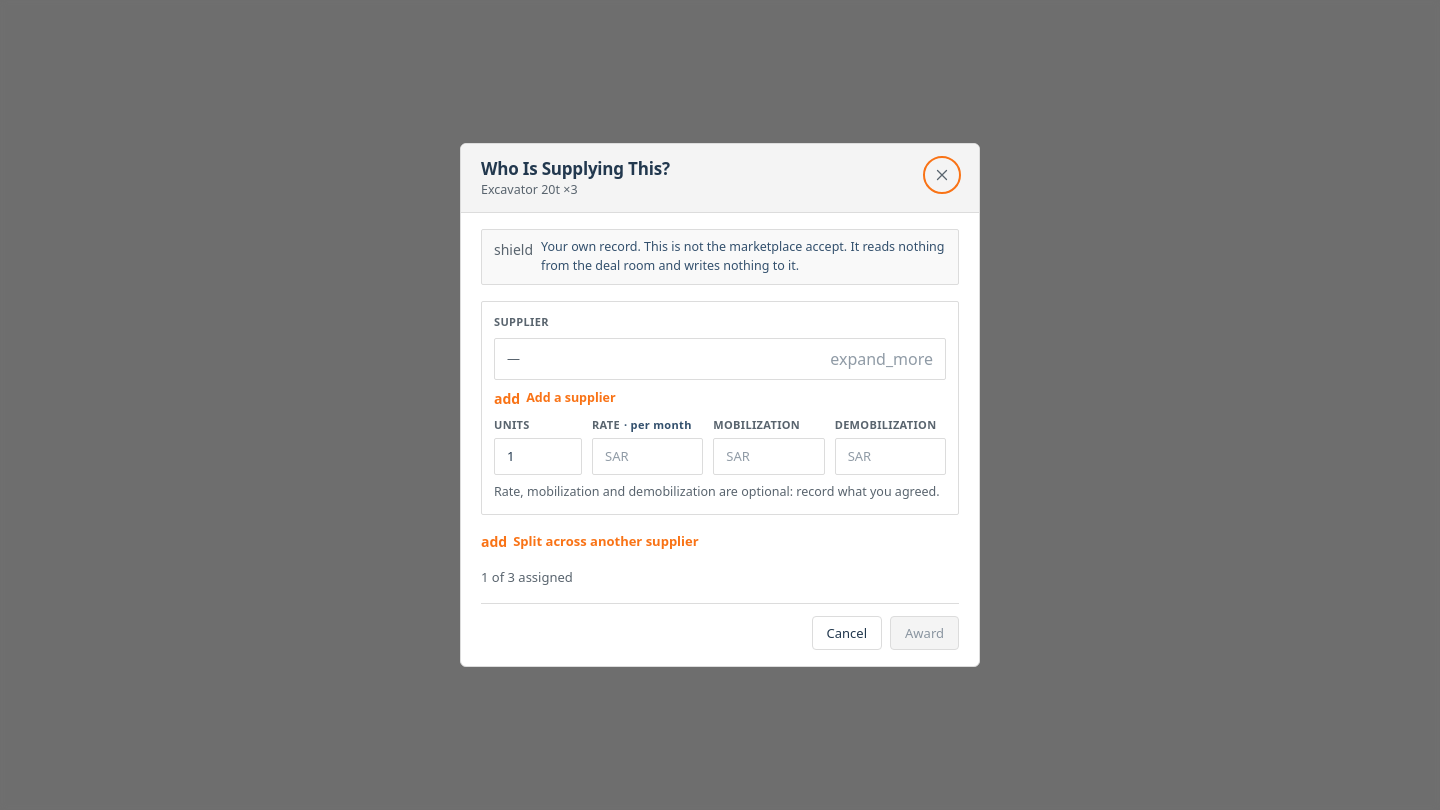
Scenario: who may be awarded › Given a registered supplier, When the list opens, Then they can be chosen
Click the dropdown named "Supplier" at coordinates (882, 359), box [494,338,946,380]
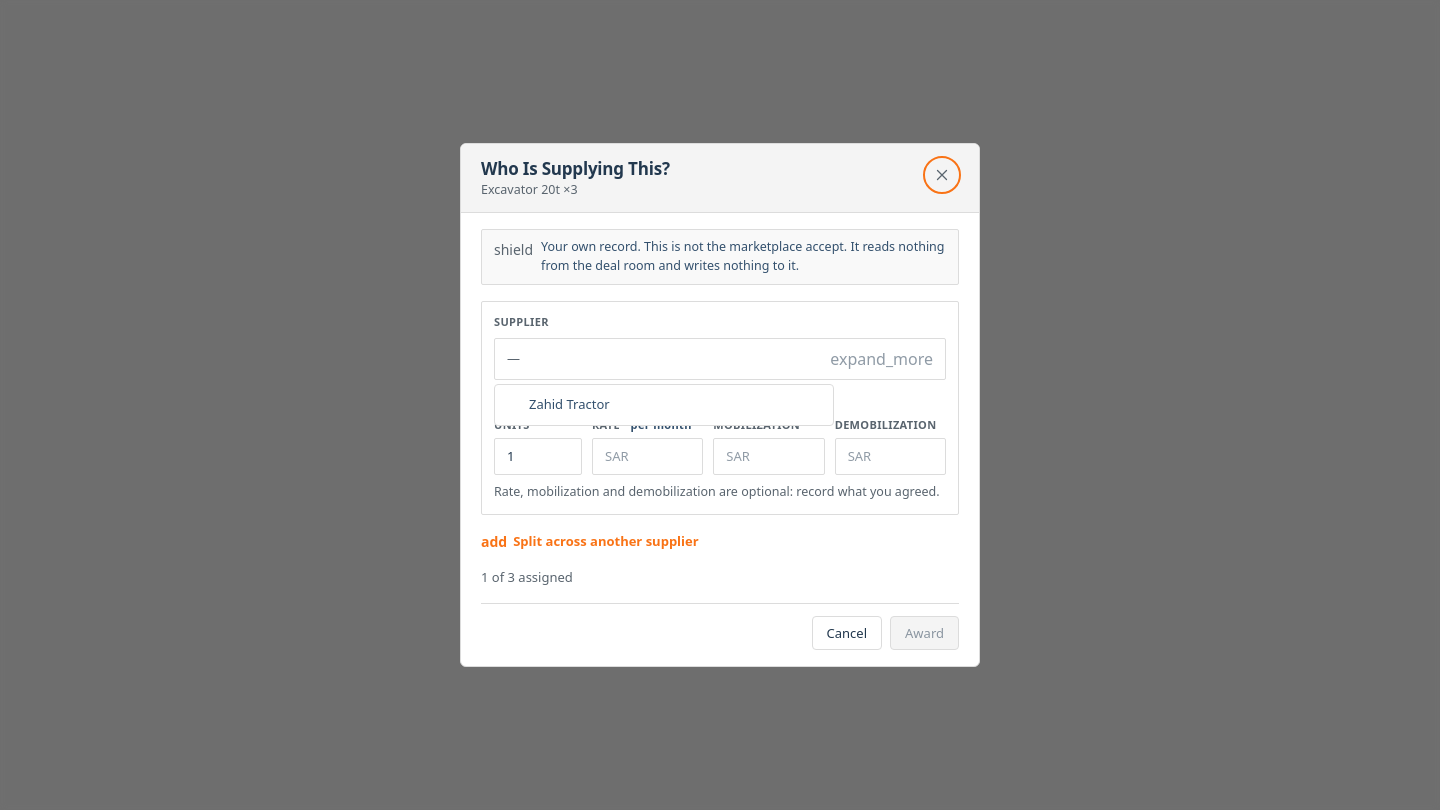
Check: the option "Zahid Tractor" is enabled, box [495,389,833,421]
